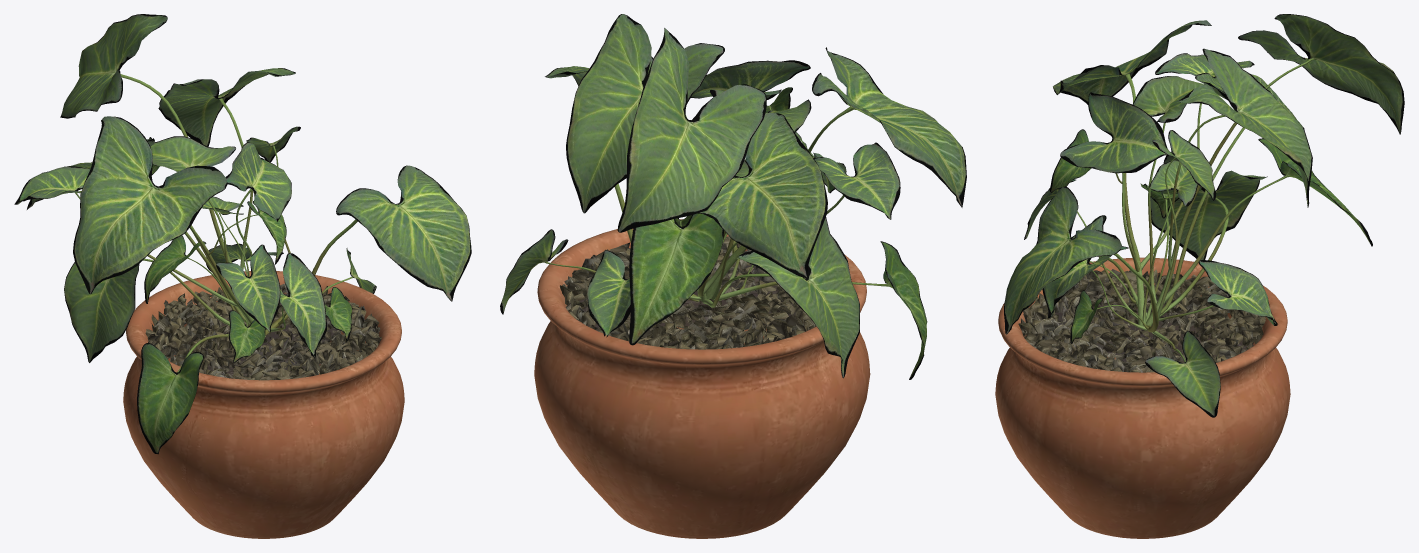
Rendered from potted_plant_02.glb.
3 views of the same model, side by side, from view 1: azimuth 30°, elevation 25°; view 2: azimuth 150°, elevation 25°; view 3: azimuth 270°, elevation 25° (orthographic). The views are drawn at different scales.
Visible parts, largest first — view 1: potted_plant_02_leaves, potted_plant_02_pot, potted_plant_02_dirt; view 2: potted_plant_02_leaves, potted_plant_02_pot, potted_plant_02_dirt; view 3: potted_plant_02_leaves, potted_plant_02_pot, potted_plant_02_dirt.
Part boxes in pixels (bbox=[...]): potted_plant_02_leaves: bbox=[14, 14, 471, 454]; potted_plant_02_pot: bbox=[123, 271, 404, 538]; potted_plant_02_dirt: bbox=[145, 283, 381, 380]; potted_plant_02_leaves: bbox=[500, 14, 966, 379]; potted_plant_02_pot: bbox=[534, 219, 870, 538]; potted_plant_02_dirt: bbox=[560, 236, 816, 349]; potted_plant_02_leaves: bbox=[1004, 14, 1404, 417]; potted_plant_02_pot: bbox=[995, 257, 1290, 538]; potted_plant_02_dirt: bbox=[1018, 269, 1265, 372].
Size of the model in its own units: 0.7012 by 0.8412 by 0.6574.
Materials: 2 (2 with a texture image).
